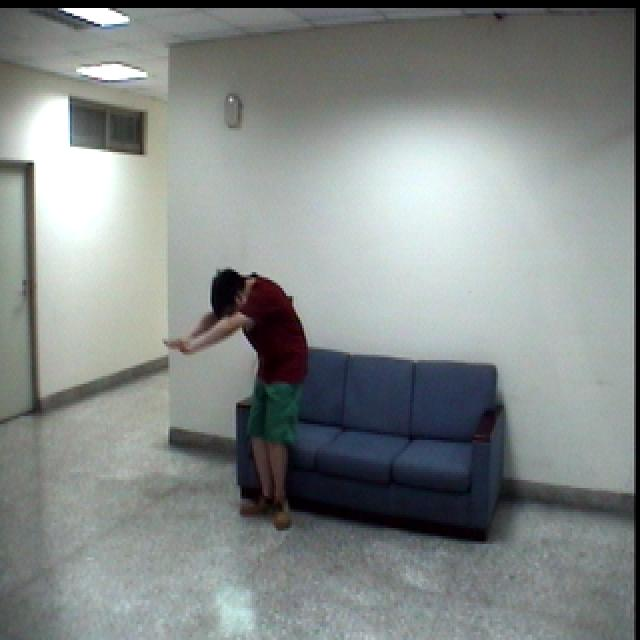bend: (156, 256, 321, 537)
